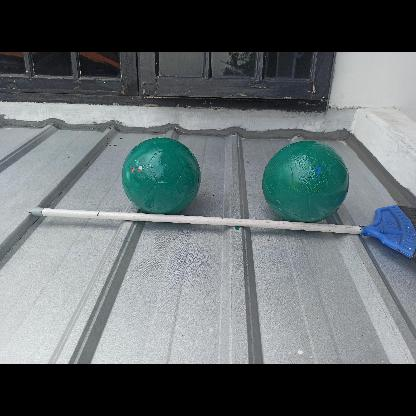green_ball: (263, 139, 347, 223), (119, 136, 199, 216)
